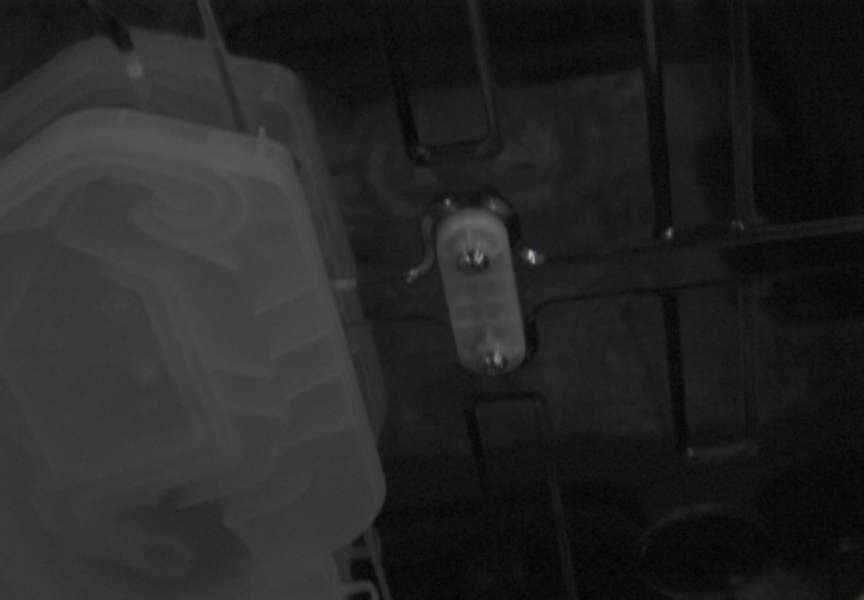screw: (457, 248, 489, 272), (479, 350, 509, 375)
